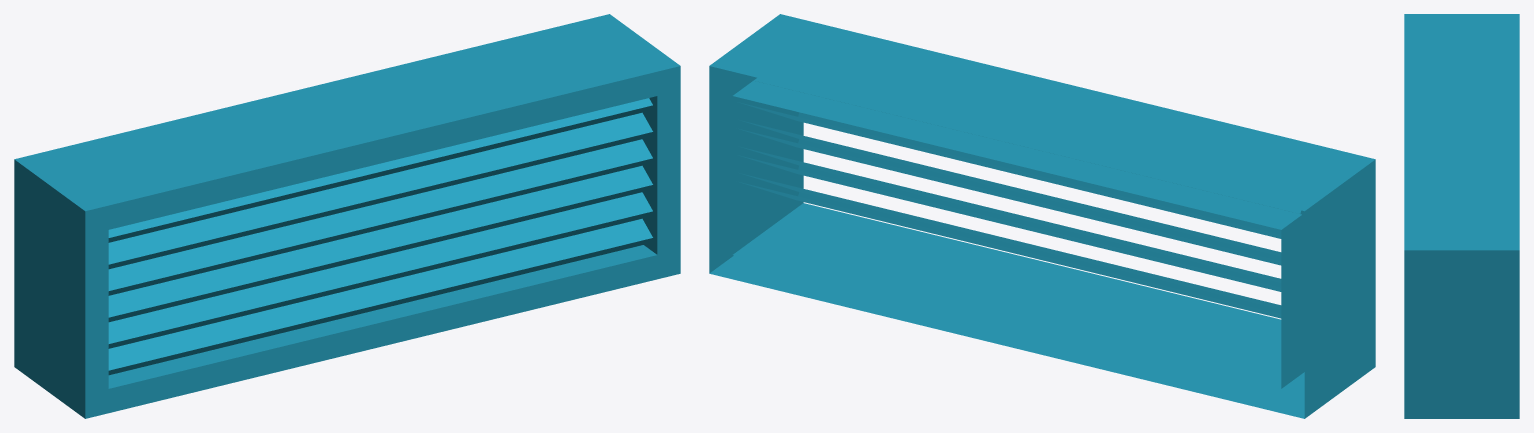
The model's file is SM_Duct_Aeration_Grid_Small.FBX.
3 views of the same model, side by side, from view 1: azimuth 30°, elevation 25°; view 2: azimuth 150°, elevation 25°; view 3: azimuth 270°, elevation 25° (orthographic). The views are drawn at different scales.
Parts seen in each view (by area): view 1: Duct_Aeration_Grid_Small_LOD0; view 2: Duct_Aeration_Grid_Small_LOD0; view 3: Duct_Aeration_Grid_Small_LOD0.
Boxes of the visible parts, x1=… form: Duct_Aeration_Grid_Small_LOD0: x1=14, y1=14, x2=680, y2=418; Duct_Aeration_Grid_Small_LOD0: x1=709, y1=14, x2=1375, y2=418; Duct_Aeration_Grid_Small_LOD0: x1=1404, y1=14, x2=1519, y2=418.
Size of what is drawn, in the model's own units: 0.2797 by 0.0932 by 0.0578.
